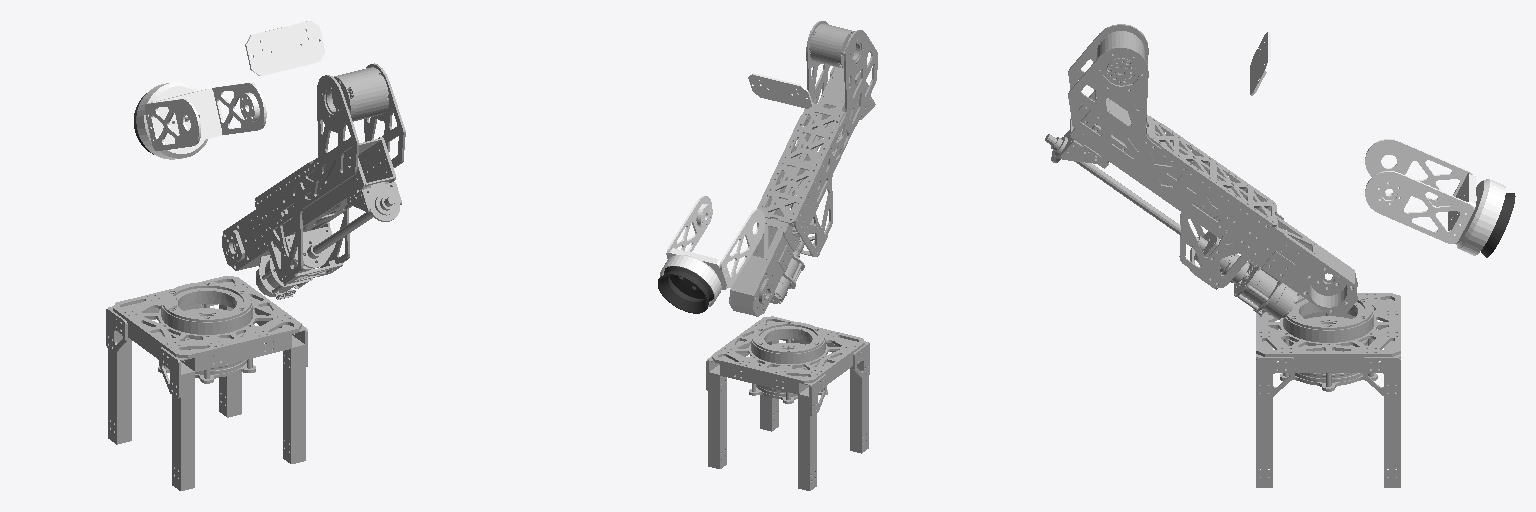
The robot description file, URDF, robot "r2_robotic_arm":
<?xml version="1.0" encoding="utf-8"?>
<robot
  name="r2_robotic_arm">
  <link
    name="base_link">
    <inertial>
      <origin
        xyz="-2.12927591876723E-05 5.48031588378215E-06 0.0274260298807097"
        rpy="0 0 0" />
      <mass
        value="1.44975066" />
      <inertia
        ixx="0.00458070"
        ixy="-0.00000043"
        ixz="0.00000019"
        iyy="0.00467596"
        iyz="0.000002949"
        izz="0.00467366" />
    </inertial>
    <visual>
      <origin
        xyz="0 0 0"
        rpy="0 0 0" />
      <geometry>
        <mesh
          filename="package://r2_robotic_arm_description/meshes/base_link.STL" />
      </geometry>
      <material
        name="">
        <color
          rgba="0.752941176470588 0.752941176470588 0.752941176470588 1" />
      </material>
    </visual>
    <collision>
      <origin
        xyz="0 0 0"
        rpy="0 0 0" />
      <geometry>
        <mesh
          filename="package://r2_robotic_arm_description/meshes/base_link.STL" />
      </geometry>
    </collision>
  </link>
  <link
    name="joint_1_link">
    <inertial>
      <origin
        xyz="0.00686250007364108 -6.4217018469813E-05 0.0473286343607914"
        rpy="0 0 0" />
      <mass
        value="1.20681178" />
      <inertia
        ixx="0.00618535"
        ixy="-0.00015190"
        ixz="0.00025404"
        iyy="0.00635680"
        iyz="-0.00044696"
        izz="0.00122037" />
    </inertial>
    <visual>
      <origin
        xyz="0 0 0"
        rpy="0 0 0" />
      <geometry>
        <mesh
          filename="package://r2_robotic_arm_description/meshes/joint_1_link.STL" />
      </geometry>
      <material
        name="">
        <color
          rgba="0.752941176470588 0.752941176470588 0.752941176470588 1" />
      </material>
    </visual>
    <collision>
      <origin
        xyz="0 0 0"
        rpy="0 0 0" />
      <geometry>
        <mesh
          filename="package://r2_robotic_arm_description/meshes/joint_1_link.STL" />
      </geometry>
    </collision>
  </link>
  <joint
    name="joint_1"
    type="revolute">
    <origin
      xyz="0 0 0.058"
      rpy="0 0 0" />
    <parent
      link="base_link" />
    <child
      link="joint_1_link" />
    <axis
      xyz="0 0 -1" />
    <limit
      lower="-5.22"
      upper="0"
      effort="40"
      velocity="100" />
  </joint>
  <link
    name="joint_2_link">
    <inertial>
      <origin
        xyz="0.144347933027611 0.0167926303063024 0.0268734599724394"
        rpy="0 0 0" />
      <mass
        value="1.27038627" />
      <inertia
        ixx="0.00309965"
        ixy="-0.00383893"
        ixz="-0.00500329"
        iyy="0.04379619"
        iyz="-0.00092475"
        izz="0.04444630" />
    </inertial>
    <visual>
      <origin
        xyz="0 0 0"
        rpy="0 0 0" />
      <geometry>
        <mesh
          filename="package://r2_robotic_arm_description/meshes/joint_2_link.STL" />
      </geometry>
      <material
        name="">
        <color
          rgba="0.752941176470588 0.752941176470588 0.752941176470588 1" />
      </material>
    </visual>
    <collision>
      <origin
        xyz="0 0 0"
        rpy="0 0 0" />
      <geometry>
        <mesh
          filename="package://r2_robotic_arm_description/meshes/joint_2_link.STL" />
      </geometry>
    </collision>
  </link>
  <joint
    name="joint_2"
    type="revolute">
    <origin
      xyz="0.032 0 0.08"
      rpy="-1.5708 -0.65642 -1.5708" />
    <parent
      link="joint_1_link" />
    <child
      link="joint_2_link" />
    <axis
      xyz="0 0 1" />
    <limit
      lower="-2.42"
      upper="0"
      effort="40"
      velocity="100" />
  </joint>
  <link
    name="joint_3_link">
    <inertial>
      <origin
        xyz="0.069346694397606 -0.0011487998588938 0.158565752136034"
        rpy="0 0 0" />
      <mass
        value="0.53361407" />
      <inertia
        ixx="0.01965399"
        ixy="0.00007704"
        ixz="-0.00813439"
        iyy="0.02327313"
        iyz="0.00017099"
        izz="0.00427269" />
    </inertial>
    <visual>
      <origin
        xyz="0 0 0"
        rpy="0 0 0" />
      <geometry>
        <mesh
          filename="package://r2_robotic_arm_description/meshes/joint_3_link.STL" />
      </geometry>
      <material
        name="">
        <color
          rgba="0.752941176470588 0.752941176470588 0.752941176470588 1" />
      </material>
    </visual>
    <collision>
      <origin
        xyz="0 0 0"
        rpy="0 0 0" />
      <geometry>
        <mesh
          filename="package://r2_robotic_arm_description/meshes/joint_3_link.STL" />
      </geometry>
    </collision>
  </link>
  <joint
    name="joint_3"
    type="prismatic">
    <origin
      xyz="0.083 0.052 0.0275"
      rpy="-1.5708 0 -1.5708" />
    <parent
      link="joint_2_link" />
    <child
      link="joint_3_link" />
    <axis
      xyz="0 0 -1" />
    <limit
      lower="-0.19"
      upper="0"
      effort="40"
      velocity="100" />
  </joint>
  <link
    name="joint_4_link">
    <inertial>
      <origin
        xyz="0.19903 0.0099575 -0.032036"
        rpy="0 0 0" />
      <mass
        value="0.72989653" />
      <inertia
        ixx="0.00218083"
        ixy="-0.00107276"
        ixz="0.00451925"
        iyy="0.03951902"
        iyz="0.00023957"
        izz="0.03893628" />
    </inertial>
    <visual>
      <origin
        xyz="0 0 0"
        rpy="0 0 0" />
      <geometry>
        <mesh
          filename="package://r2_robotic_arm_description/meshes/joint_4_link.STL" />
      </geometry>
      <material
        name="">
        <color
          rgba="0.86667 0.9098 1 1" />
      </material>
    </visual>
    <collision>
      <origin
        xyz="0 0 0"
        rpy="0 0 0" />
      <geometry>
        <mesh
          filename="package://r2_robotic_arm_description/meshes/joint_4_link.STL" />
      </geometry>
    </collision>
  </link>
  <joint
    name="joint_4"
    type="revolute">
    <origin
      xyz="0.132 -0.033 0.28695"
      rpy="1.5708 1.3614 0" />
    <parent
      link="joint_3_link" />
    <child
      link="joint_4_link" />
    <axis
      xyz="0 0 -1" />
    <limit
      lower="-2.32"
      upper="0"
      effort="40"
      velocity="100" />
  </joint>
  <link
    name="joint_5_link">
    <inertial>
      <origin
        xyz="0.07610913647531 1.94289029309402E-16 -0.038106698009771"
        rpy="0 0 0" />
      <mass
        value="0.18671435" />
      <inertia
        ixx="0.00051868"
        ixy="0.00000000"
        ixz="0.00054001"
        iyy="0.00177976"
        iyz="0.00000000"
        izz="0.00136734" />
    </inertial>
    <visual>
      <origin
        xyz="0 0 0"
        rpy="0 0 0" />
      <geometry>
        <mesh
          filename="package://r2_robotic_arm_description/meshes/joint_5_link.STL" />
      </geometry>
      <material
        name="">
        <color
          rgba="1 1 1 1" />
      </material>
    </visual>
    <collision>
      <origin
        xyz="0 0 0"
        rpy="0 0 0" />
      <geometry>
        <mesh
          filename="package://r2_robotic_arm_description/meshes/joint_5_link.STL" />
      </geometry>
    </collision>
  </link>
  <joint
    name="joint_5"
    type="revolute">
    <origin
      xyz="0.35 0 0.005"
      rpy="0 0 0" />
    <parent
      link="joint_4_link" />
    <child
      link="joint_5_link" />
    <axis
      xyz="0 0 -1" />
    <limit
      lower="-2.4"
      upper="2.4"
      effort="40"
      velocity="100" />
  </joint>
  <link
    name="suction">
    <inertial>
      <origin
        xyz="-0.0237043010356263 1.11022302462516E-16 0"
        rpy="0 0 0" />
      <mass
        value="0.08171729" />
      <inertia
        ixx="0.00007674"
        ixy="0.00000000"
        ixz="0.00000000"
        iyy="0.00009179"
        iyz="0.00000000"
        izz="0.00009179" />
    </inertial>
    <visual>
      <origin
        xyz="0 0 0"
        rpy="0 0 0" />
      <geometry>
        <mesh
          filename="package://r2_robotic_arm_description/meshes/suction.STL" />
      </geometry>
      <material
        name="">
        <color
          rgba="0.298039215686275 0.298039215686275 0.298039215686275 1" />
      </material>
    </visual>
    <collision>
      <origin
        xyz="0 0 0"
        rpy="0 0 0" />
      <geometry>
        <mesh
          filename="package://r2_robotic_arm_description/meshes/suction.STL" />
      </geometry>
    </collision>
  </link>
  <joint
    name="suction"
    type="fixed">
    <origin
      xyz="0.145 0 -0.038"
      rpy="0 0 0" />
    <parent
      link="joint_5_link" />
    <child
      link="suction" />
    <axis
      xyz="0 0 0" />
  </joint>
  <link
    name="camera">
    <inertial>
      <origin
        xyz="-0.00150000000000003 0 0"
        rpy="0 0 0" />
      <mass
        value=" 0.02836985" />
      <inertia
        ixx="0.00002751"
        ixy="0.00000000"
        ixz="0.00000000"
        iyy="0.00000574"
        iyz="0.00000000"
        izz="0.00002193" />
    </inertial>
    <visual>
      <origin
        xyz="0 0 0"
        rpy="0 0 0" />
      <geometry>
        <mesh
          filename="package://r2_robotic_arm_description/meshes/camera.STL" />
      </geometry>
      <material
        name="">
        <color
          rgba="1 1 1 1" />
      </material>
    </visual>
    <collision>
      <origin
        xyz="0 0 0"
        rpy="0 0 0" />
      <geometry>
        <mesh
          filename="package://r2_robotic_arm_description/meshes/camera.STL" />
      </geometry>
    </collision>
  </link>
  <joint
    name="camera"
    type="fixed">
    <origin
      xyz="0.151 0.066936 -0.033"
      rpy="-1.5708 0 0" />
    <parent
      link="joint_4_link" />
    <child
      link="camera" />
    <axis
      xyz="0 0 0" />
  </joint>
</robot>

--- Facts derived from the render (not from the file) ---
Views: 3 orthographic renders of the robot side by side, from view 1: azimuth 30°, elevation 25°; view 2: azimuth 150°, elevation 25°; view 3: azimuth 270°, elevation 25°.
Robot: r2_robotic_arm — 8 links, 7 joints (4 revolute, 1 prismatic, 2 fixed); root link base_link; default pose: every joint at zero.
Visible links, largest first — view 1: base_link, joint_3_link, joint_2_link, joint_5_link, camera; view 2: base_link, joint_3_link, joint_2_link, joint_5_link, suction, camera; view 3: joint_3_link, base_link, joint_2_link, joint_5_link, camera, suction.
Boxes of the visible links, box(x1,y1,x2,y2) form: base_link: box(106, 276, 307, 490); joint_3_link: box(255, 63, 405, 284); joint_2_link: box(222, 137, 401, 299); joint_5_link: box(136, 82, 266, 159); camera: box(245, 21, 324, 75); base_link: box(706, 316, 869, 490); joint_3_link: box(757, 21, 877, 256); joint_2_link: box(729, 66, 875, 316); joint_5_link: box(660, 196, 765, 306); suction: box(658, 266, 713, 313); camera: box(748, 73, 812, 108); joint_3_link: box(1068, 24, 1276, 289); base_link: box(1256, 293, 1400, 487); joint_2_link: box(1045, 90, 1357, 319); joint_5_link: box(1365, 139, 1505, 255); camera: box(1250, 32, 1270, 95); suction: box(1481, 193, 1515, 257).
Size in the robot's own frame: 0.1975 by 0.5545 by 0.5756 metres.
6 mesh visuals loaded from 8 distinct referenced files (6 binary STL); not drawn: 2 (reference not matched to a file when rendering).
